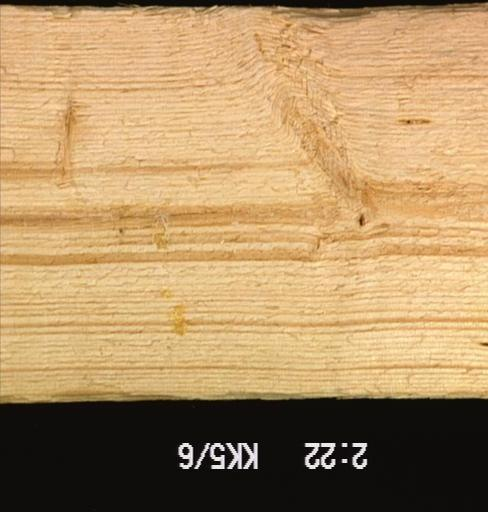wave: (33, 1, 438, 29)
